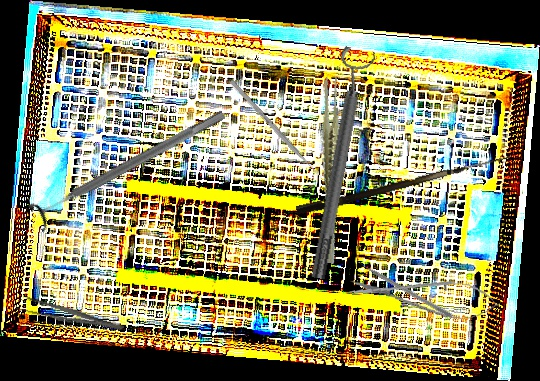Dressing Forceps: (13, 293, 127, 337)
Fixation Ring: (27, 100, 232, 234), (298, 45, 379, 282)
Hook Surgical: (295, 145, 511, 220)
Micro Scissor: (346, 267, 502, 325)
Pusher: (229, 79, 323, 180), (353, 257, 454, 319)
Tissue Forceps: (289, 74, 371, 265)
